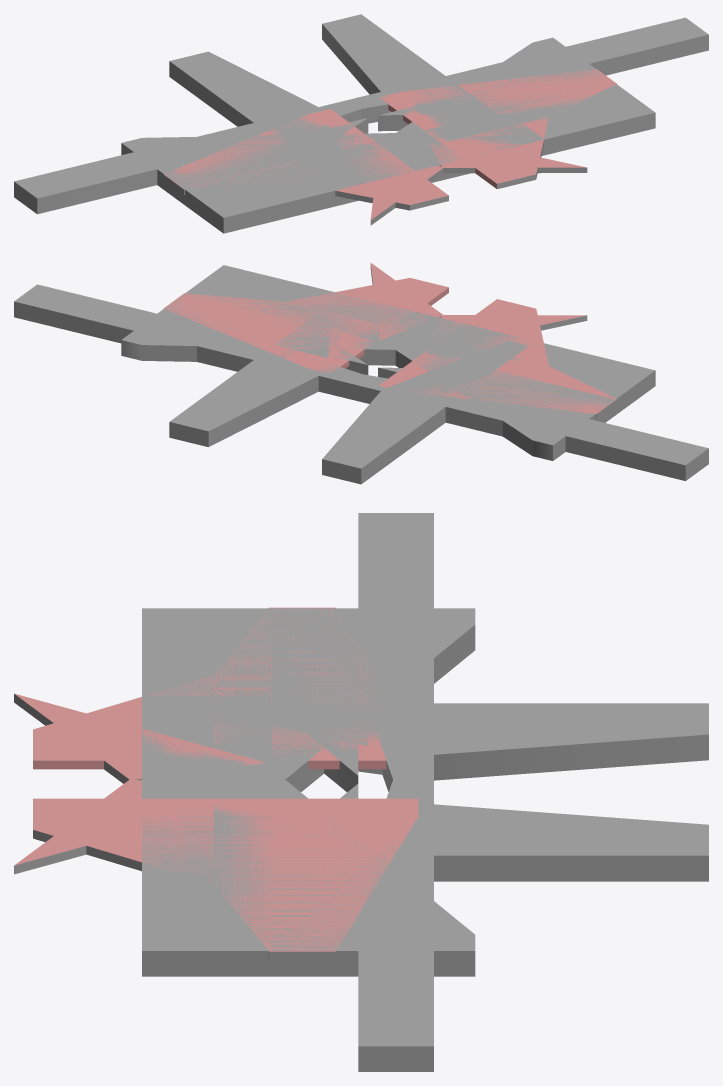
File: T_lvl1.fbx
3 renders of one model, top to bottom at view 1: azimuth 30°, elevation 25°; view 2: azimuth 150°, elevation 25°; view 3: azimuth 270°, elevation 25°, orthographic. The views are drawn at different scales.
Parts seen in each view (by area): view 1: w10_L, w7_L, w_L, w7_R, w_R, w5_L, w10_R, w9_R, w1_L, w5_R, w9_L, w6_L (+9 smaller); view 2: w_R, w7_L, w_L, w5_L, w7_R, w9_L, w10_R, w5_R, w9_R, w10_L, w6_L, w6_R (+11 smaller); view 3: w10_R, w5_L, w7_L, w_L, w7_R, w_R, w9_R, w10_L, w1_L, w9_L, w6_L, w2_L (+9 smaller).
Boxes of the visible parts, bbox=[...] form: w10_L: bbox=[184, 137, 454, 233]; w7_L: bbox=[169, 51, 357, 183]; w_L: bbox=[14, 99, 362, 214]; w7_R: bbox=[322, 14, 482, 124]; w_R: bbox=[350, 17, 708, 123]; w5_L: bbox=[379, 68, 616, 142]; w10_R: bbox=[398, 84, 655, 178]; w9_R: bbox=[385, 37, 604, 139]; w1_L: bbox=[157, 118, 368, 204]; w5_R: bbox=[163, 109, 392, 194]; w9_L: bbox=[121, 132, 411, 204]; w6_L: bbox=[442, 117, 548, 189]; w_R: bbox=[14, 284, 361, 399]; w7_L: bbox=[322, 340, 528, 484]; w_L: bbox=[350, 374, 708, 480]; w5_L: bbox=[163, 293, 391, 373]; w7_R: bbox=[169, 304, 351, 446]; w9_L: bbox=[387, 344, 615, 460]; w10_R: bbox=[185, 265, 452, 338]; w5_R: bbox=[379, 347, 616, 419]; w9_R: bbox=[121, 294, 395, 365]; w10_L: bbox=[396, 319, 655, 414]; w6_L: bbox=[287, 278, 448, 326]; w6_R: bbox=[461, 299, 548, 365]; w10_R: bbox=[142, 767, 270, 976]; w5_L: bbox=[214, 798, 418, 960]; w7_L: bbox=[163, 703, 708, 780]; w_L: bbox=[358, 513, 433, 791]; w7_R: bbox=[397, 804, 708, 881]; w_R: bbox=[358, 779, 433, 1071]; w9_R: bbox=[270, 768, 475, 976]; w10_L: bbox=[142, 608, 270, 729]; w1_L: bbox=[271, 608, 358, 792]; w9_L: bbox=[270, 608, 475, 791]; w6_L: bbox=[33, 798, 213, 882]; w2_L: bbox=[142, 703, 271, 798].
Size of the model in its own units: 5.6 by 3.08 by 0.1262.
